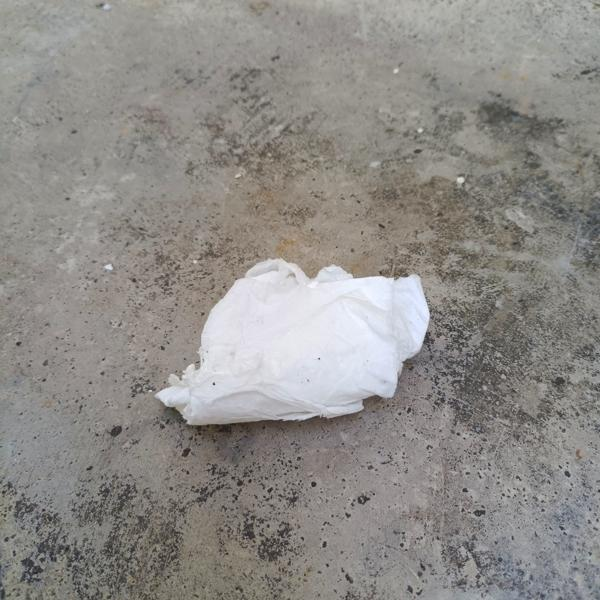Organik: (144, 224, 481, 467)
